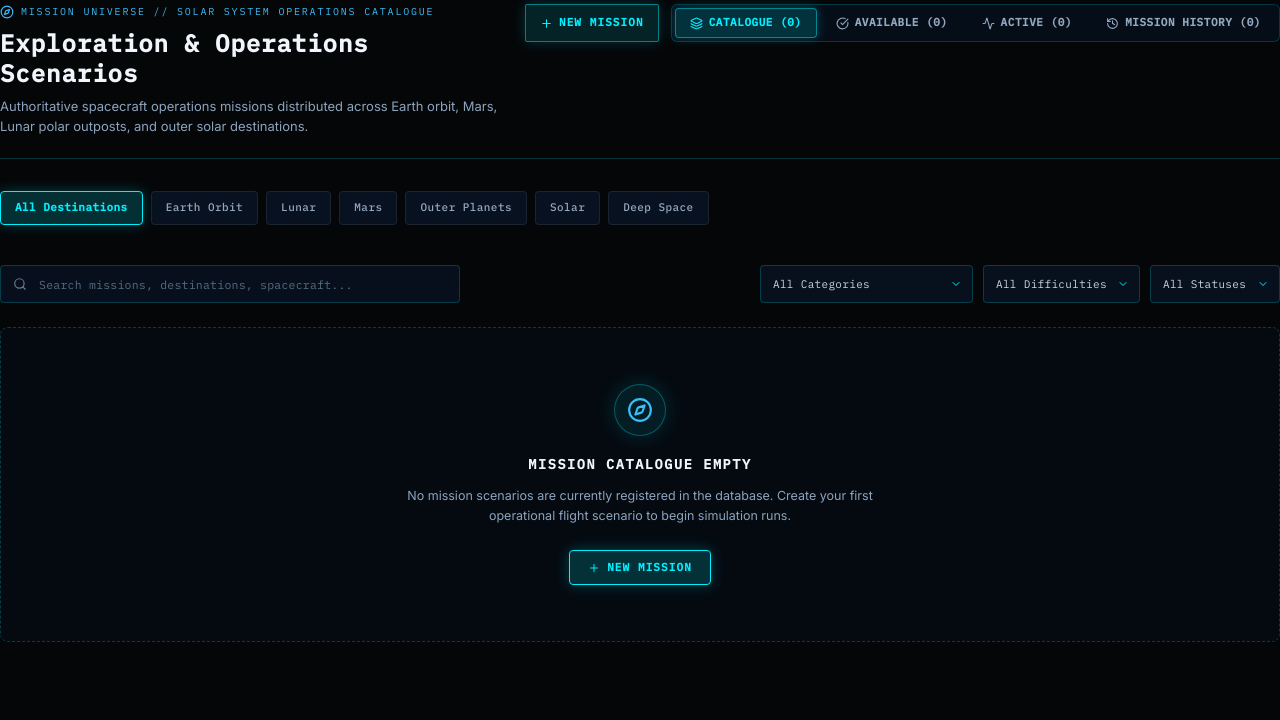
Test case: ASTRA Mission Control Operations Console › opens New Mission modal, validates fields, and registers mission
// Open modal
Step 1. Click the button with test id "open-create-mission-modal-btn" → (592, 23), box [525,4,659,42]
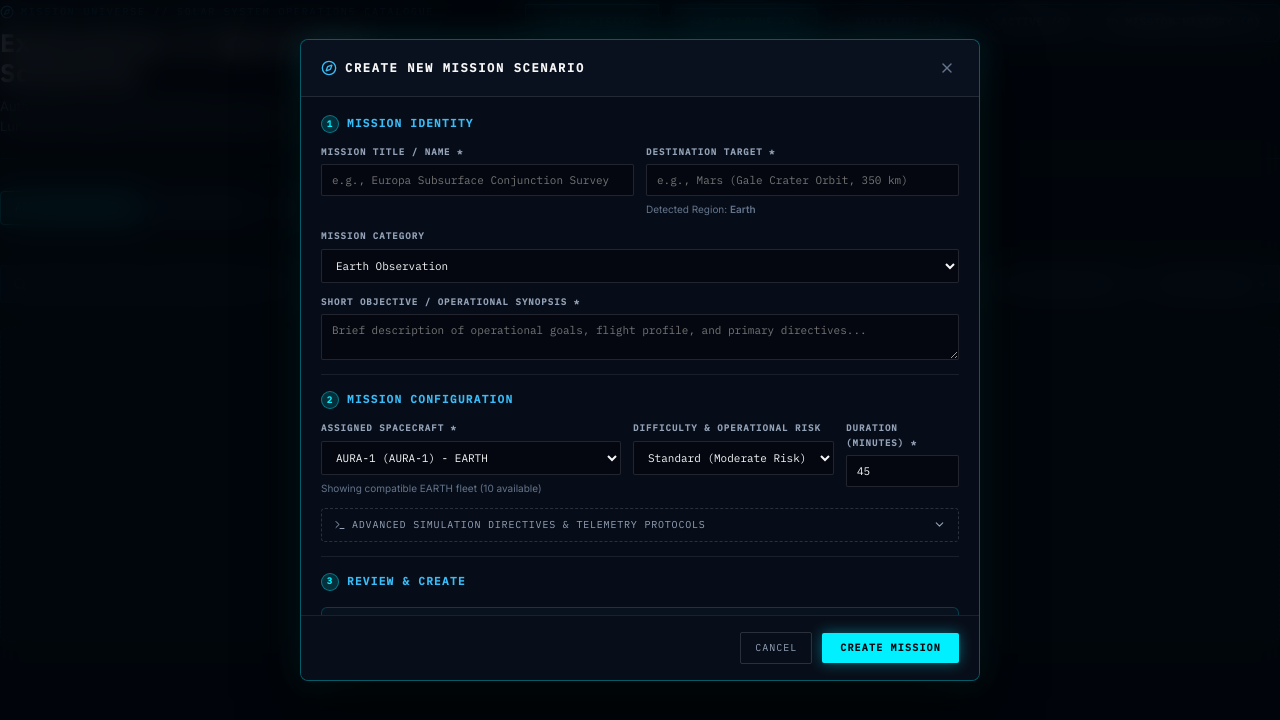
Check: the dialog with test id "create-mission-modal" is shown
Step 2. Type "Europa Subsurface Survey" into the field labelled "MISSION TITLE / NAME *" → (478, 180), box [321,164,634,196]
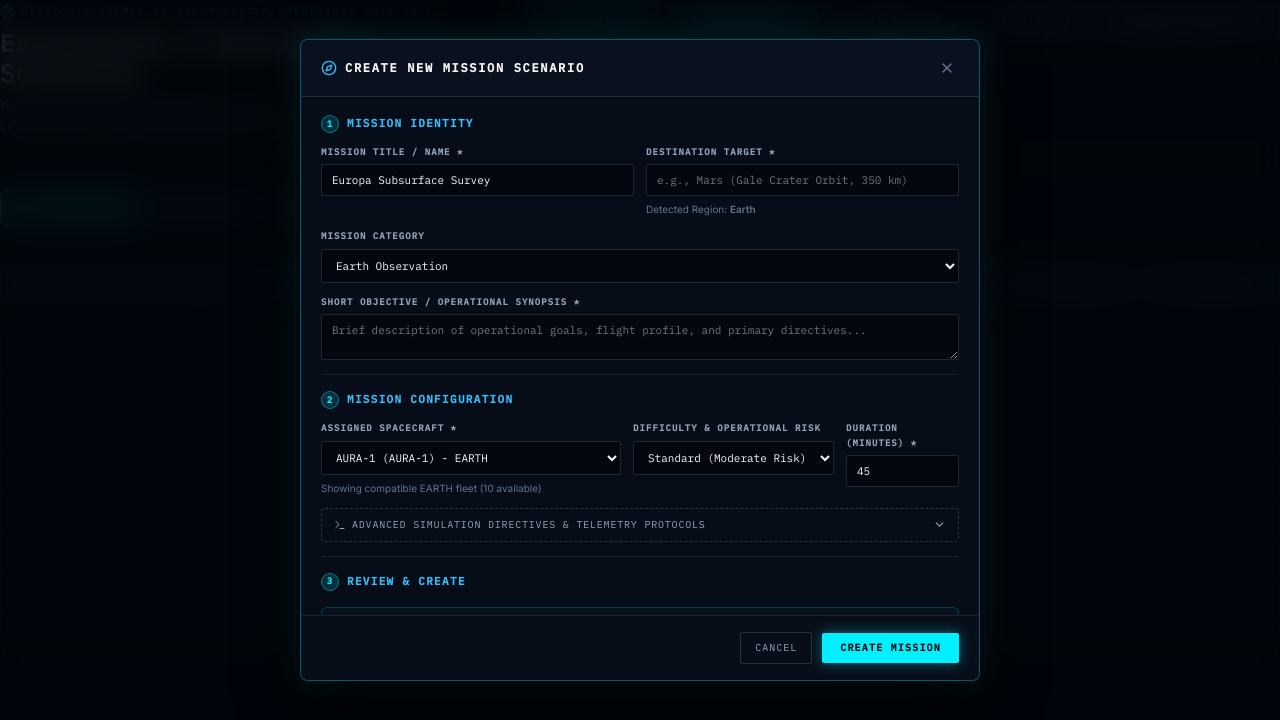
Step 3. Type "Europa (Low Jovian Polar, 400 km)" into the field labelled "DESTINATION TARGET *" → (802, 180), box [646,164,959,196]
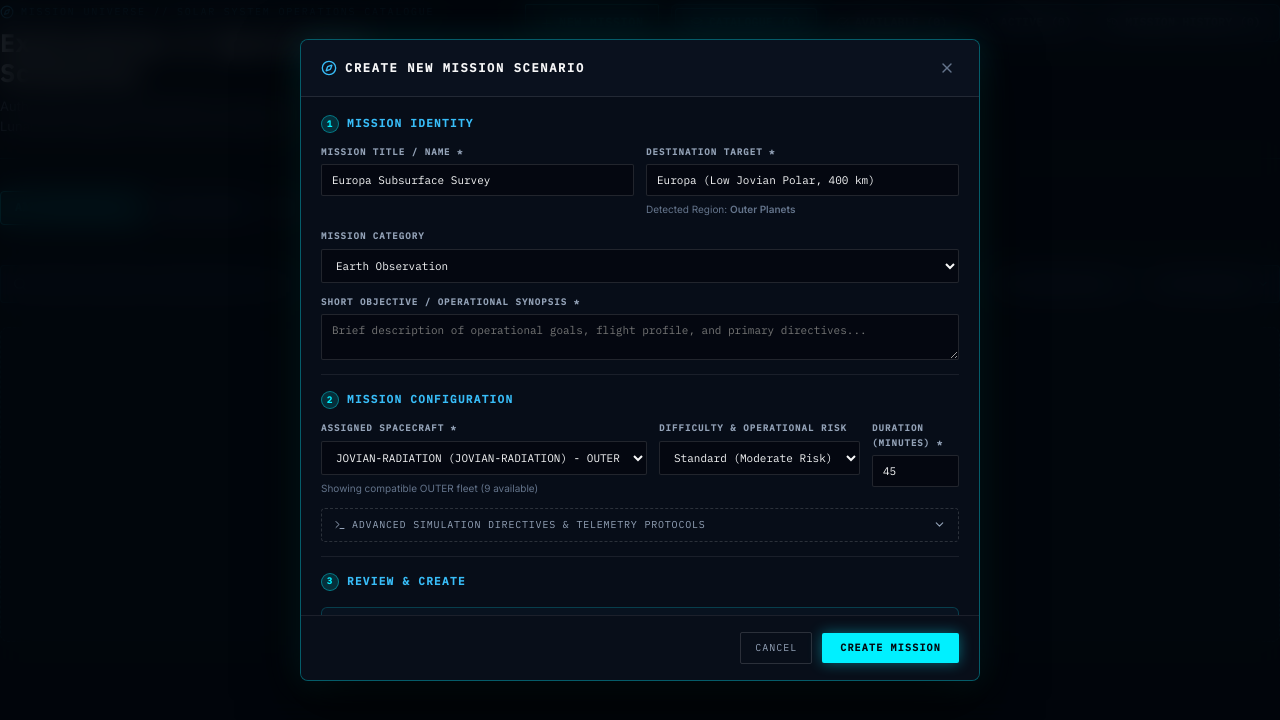
Step 4. Replace the text in the text box labelled "SHORT OBJECTIVE / OPERATIONAL SYNOPSIS *" with "Surveying ice fractures on Europa" → (640, 337), box [321,314,959,360]
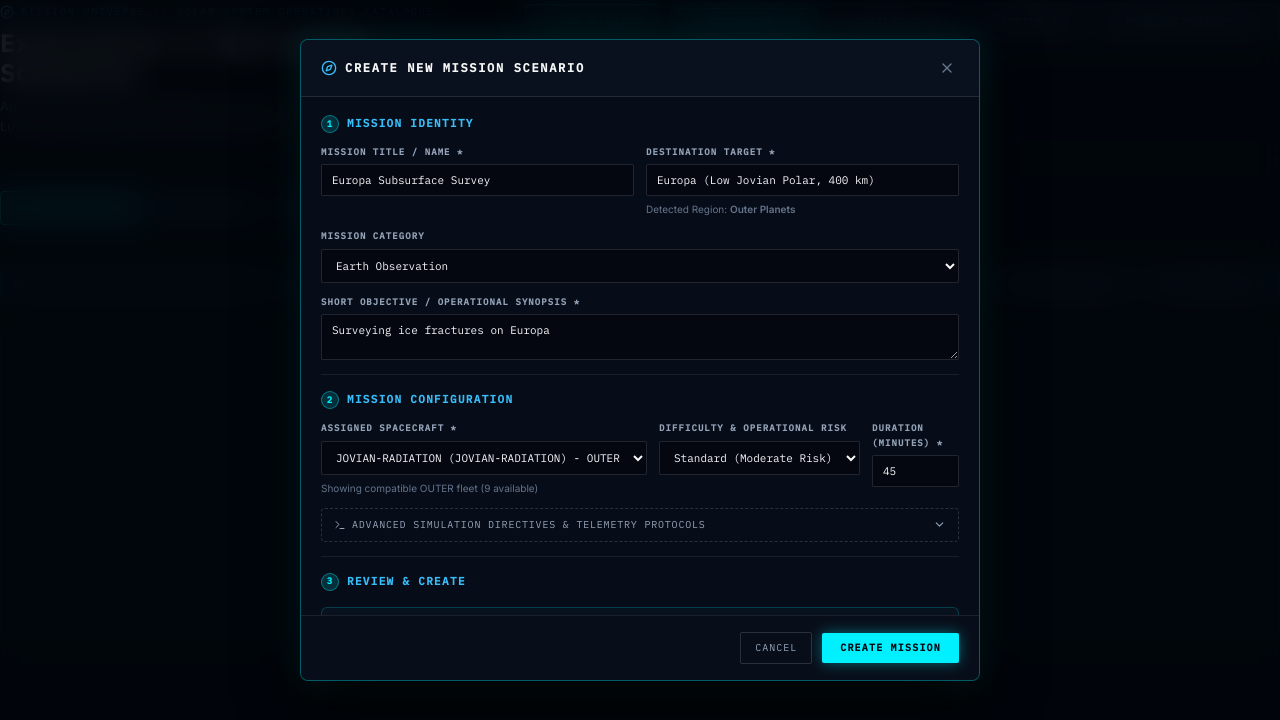
Step 5. Click the button with test id "submit-create-mission-btn" → (891, 648), box [822,633,959,663]
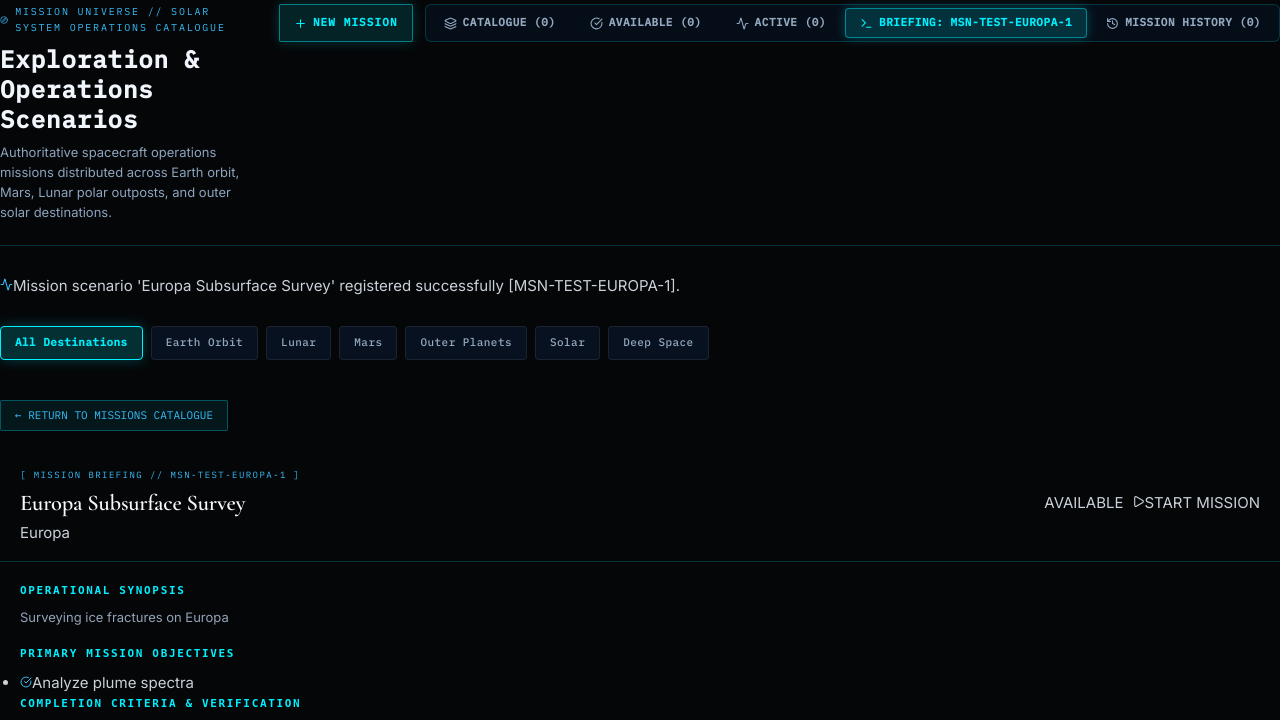
Check: the heading "Europa Subsurface Survey" is shown, box [20,489,245,516]
